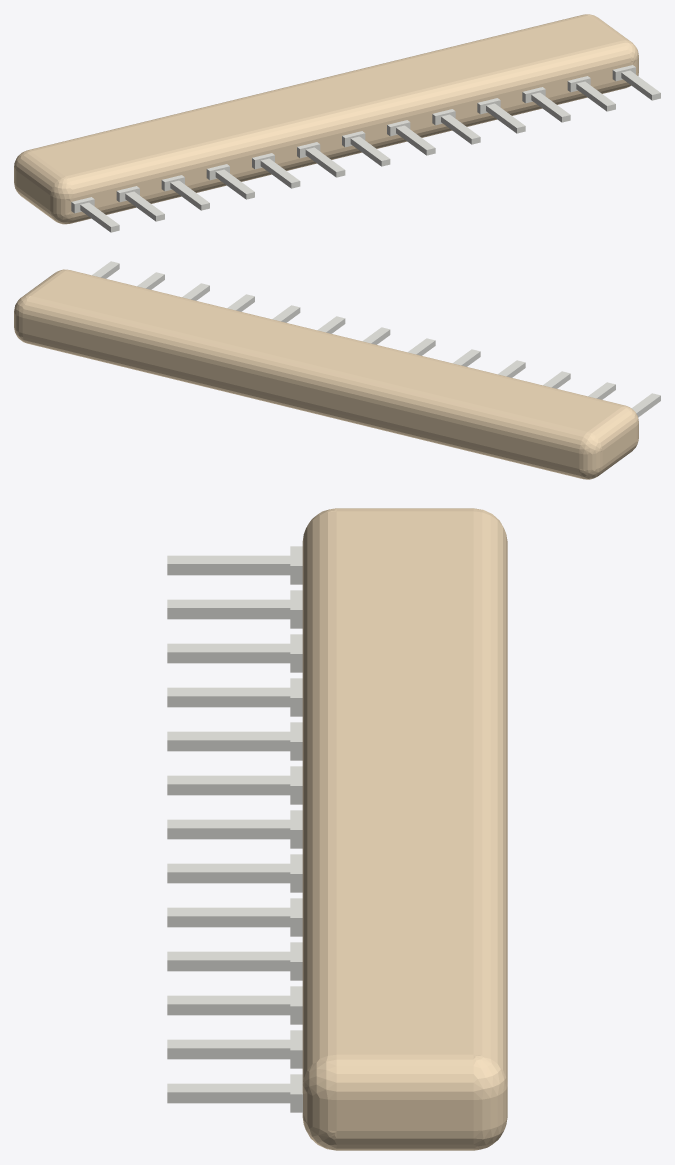
File: R_Array_SIP13.glb
3 renders of one model, top to bottom at view 1: azimuth 30°, elevation 25°; view 2: azimuth 150°, elevation 25°; view 3: azimuth 270°, elevation 25°, orthographic. The views are drawn at different scales.
Parts seen in each view (by area): view 1: Shape_IndexedFaceSet.076, Shape_IndexedFaceSet.019, Shape_IndexedFaceSet.007, Shape_IndexedFaceSet.003, Shape_IndexedFaceSet.072, Shape_IndexedFaceSet.071, Shape_IndexedFaceSet.013, Shape_IndexedFaceSet.077, Shape_IndexedFaceSet.020; view 2: Shape_IndexedFaceSet.076, Shape_IndexedFaceSet.072, Shape_IndexedFaceSet.014, Shape_IndexedFaceSet.006, Shape_IndexedFaceSet.019, Shape_IndexedFaceSet.071, Shape_IndexedFaceSet.013, Shape_IndexedFaceSet.092, Shape_IndexedFaceSet.070; view 3: Shape_IndexedFaceSet.076, Shape_IndexedFaceSet.072, Shape_IndexedFaceSet.019, Shape_IndexedFaceSet.069, Shape_IndexedFaceSet.011, Shape_IndexedFaceSet.004, Shape_IndexedFaceSet.094, Shape_IndexedFaceSet.098, Shape_IndexedFaceSet.102, Shape_IndexedFaceSet.106, Shape_IndexedFaceSet.110, Shape_IndexedFaceSet.114 (+24 smaller).
Part boxes in pixels (x1=…): Shape_IndexedFaceSet.076: x1=31, y1=15, x2=621, y2=176; Shape_IndexedFaceSet.019: x1=65, y1=40, x2=630, y2=197; Shape_IndexedFaceSet.007: x1=73, y1=62, x2=630, y2=213; Shape_IndexedFaceSet.003: x1=70, y1=79, x2=629, y2=223; Shape_IndexedFaceSet.072: x1=28, y1=14, x2=586, y2=151; Shape_IndexedFaceSet.071: x1=16, y1=151, x2=64, y2=195; Shape_IndexedFaceSet.013: x1=16, y1=171, x2=50, y2=210; Shape_IndexedFaceSet.077: x1=50, y1=176, x2=73, y2=199; Shape_IndexedFaceSet.020: x1=50, y1=195, x2=73, y2=214; Shape_IndexedFaceSet.076: x1=31, y1=271, x2=621, y2=431; Shape_IndexedFaceSet.072: x1=22, y1=296, x2=587, y2=453; Shape_IndexedFaceSet.014: x1=22, y1=318, x2=579, y2=468; Shape_IndexedFaceSet.006: x1=22, y1=333, x2=582, y2=478; Shape_IndexedFaceSet.019: x1=66, y1=270, x2=624, y2=406; Shape_IndexedFaceSet.071: x1=588, y1=407, x2=636, y2=450; Shape_IndexedFaceSet.013: x1=602, y1=426, x2=636, y2=465; Shape_IndexedFaceSet.092: x1=579, y1=432, x2=602, y2=454; Shape_IndexedFaceSet.070: x1=579, y1=451, x2=602, y2=469; Shape_IndexedFaceSet.076: x1=336, y1=511, x2=473, y2=1054; Shape_IndexedFaceSet.072: x1=473, y1=511, x2=507, y2=1084; Shape_IndexedFaceSet.019: x1=302, y1=511, x2=336, y2=1083; Shape_IndexedFaceSet.069: x1=336, y1=1054, x2=473, y2=1099; Shape_IndexedFaceSet.011: x1=336, y1=1100, x2=473, y2=1130; Shape_IndexedFaceSet.004: x1=336, y1=1131, x2=473, y2=1150; Shape_IndexedFaceSet.094: x1=167, y1=1092, x2=290, y2=1103; Shape_IndexedFaceSet.098: x1=167, y1=564, x2=290, y2=575; Shape_IndexedFaceSet.102: x1=167, y1=872, x2=290, y2=883; Shape_IndexedFaceSet.106: x1=167, y1=828, x2=290, y2=839; Shape_IndexedFaceSet.110: x1=167, y1=784, x2=290, y2=795; Shape_IndexedFaceSet.114: x1=167, y1=652, x2=290, y2=663.
Bounding box in the file's own units: 13 × 0.988 × 3.27.
